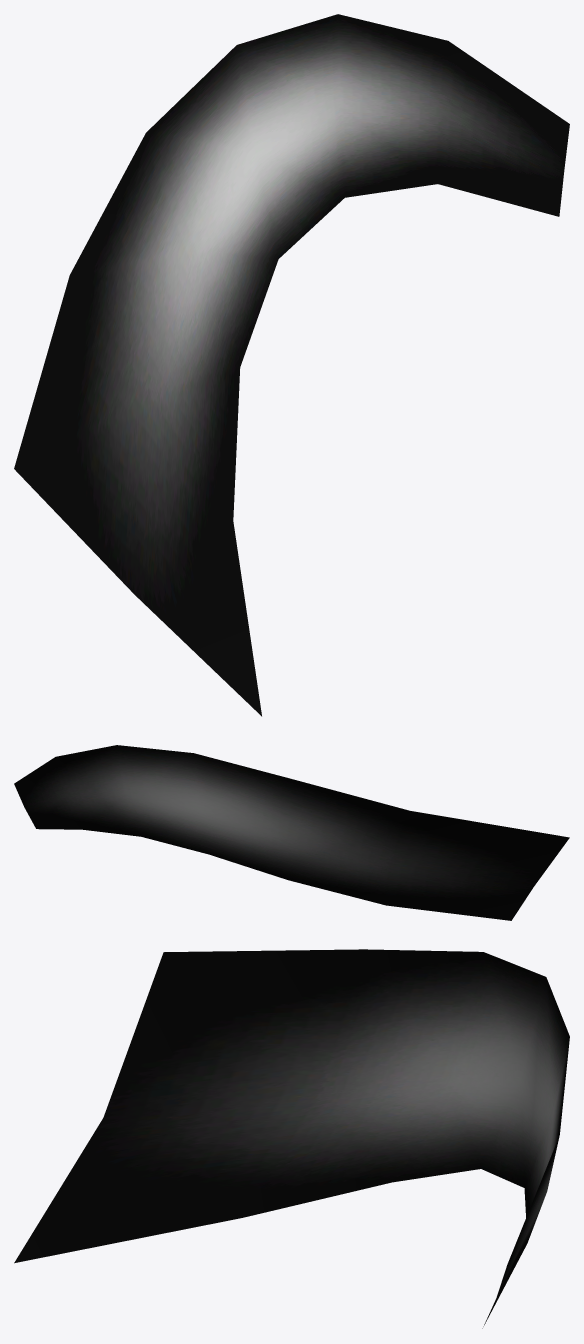
File: vfx_kurp_0858.dae
3 views of the same model, one above another, from view 1: azimuth 30°, elevation 25°; view 2: azimuth 150°, elevation 25°; view 3: azimuth 270°, elevation 25° (orthographic). The views are drawn at different scales.
Parts seen in each view (by area): view 1: vfx_kurp_0858; view 2: vfx_kurp_0858; view 3: vfx_kurp_0858.
Boxes of the visible parts, x1,y1,x2,y2 form: vfx_kurp_0858: [14, 14, 569, 716]; vfx_kurp_0858: [14, 745, 569, 920]; vfx_kurp_0858: [14, 949, 569, 1328].
Size of the model in its own units: 7.01 by 4.71 by 3.78.
1 material, 1 textured.
